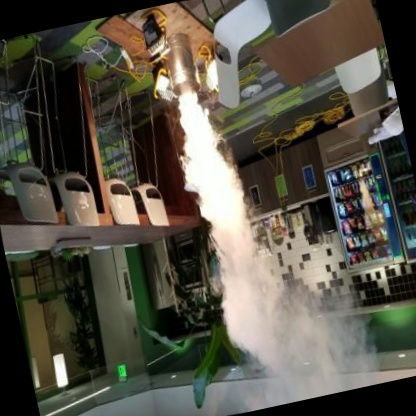smoke: (171, 91, 245, 241)
